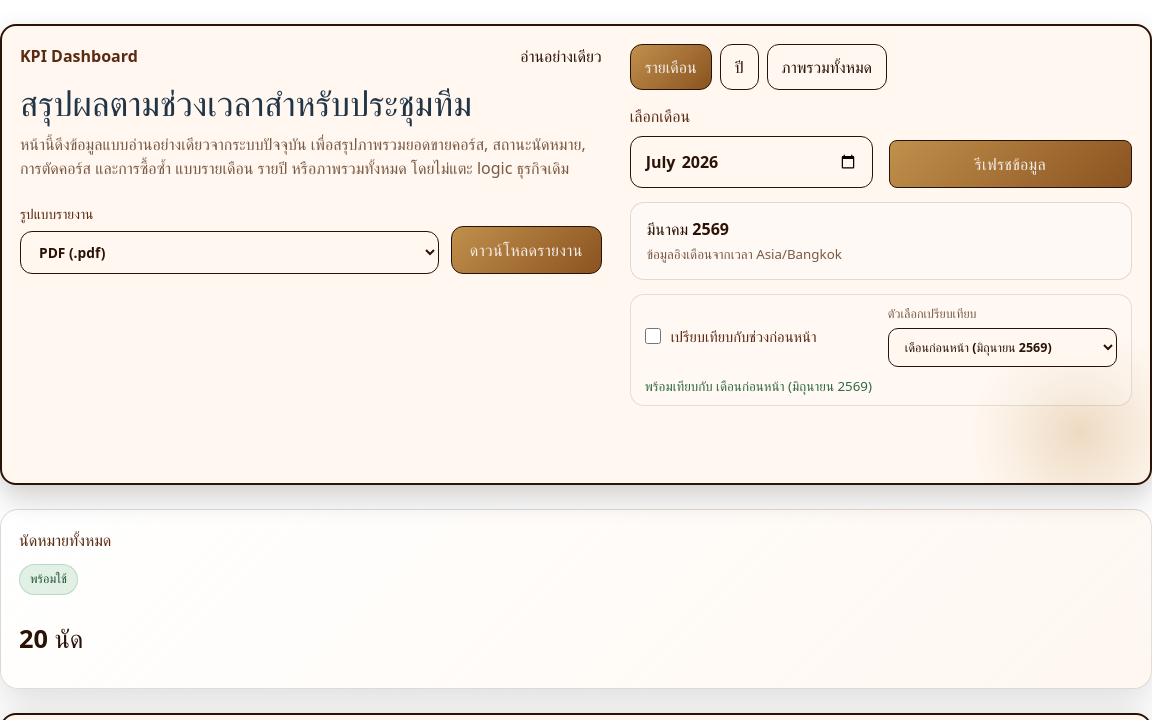
Scenario: KpiDashboardPage › disables compare controls when scope has no previous-equivalent window
Click the button "ภาพรวมทั้งหมด".
click(827, 67)  # box [766,44,887,90]
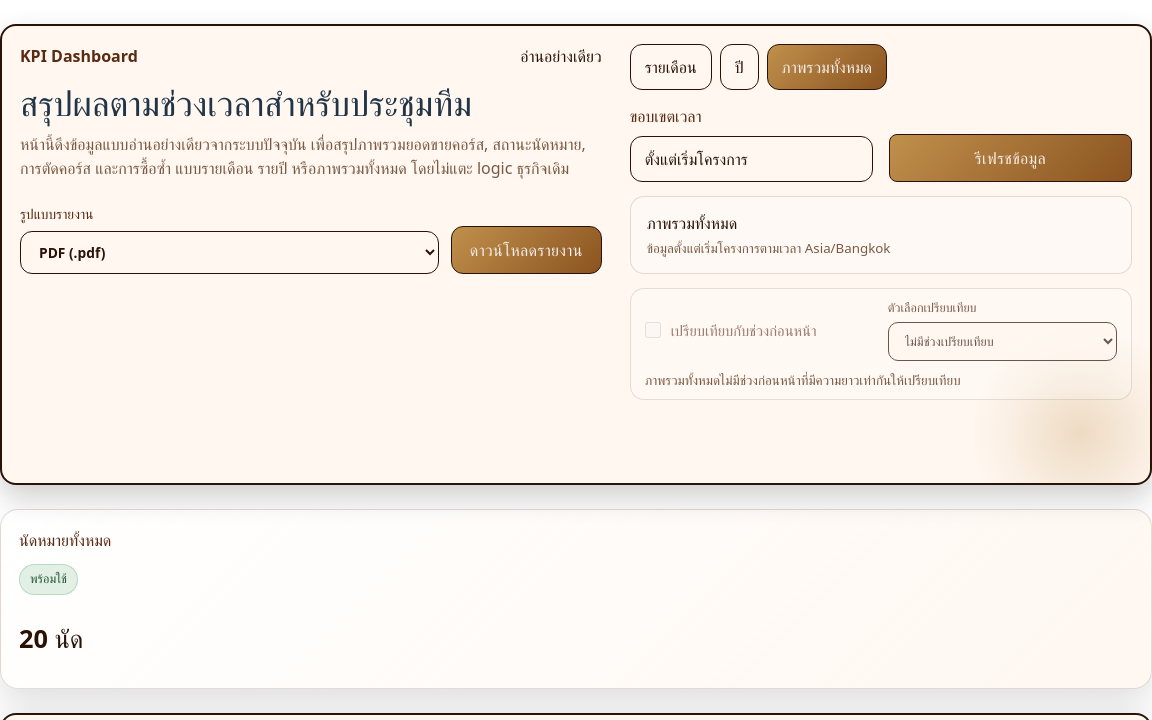
Expected: the checkbox labelled "เปรียบเทียบกับช่วงก่อนหน้า" is disabled, [645,322,661,338]
Expected: the dropdown labelled "ตัวเลือกเปรียบเทียบ" is disabled, [888,322,1117,361]
Expected: the text "ภาพรวมทั้งหมดไม่มีช่วงก่อนหน้าที่มีความยาวเท่ากันให้เปรียบเทียบ" is shown, [645,371,961,389]
